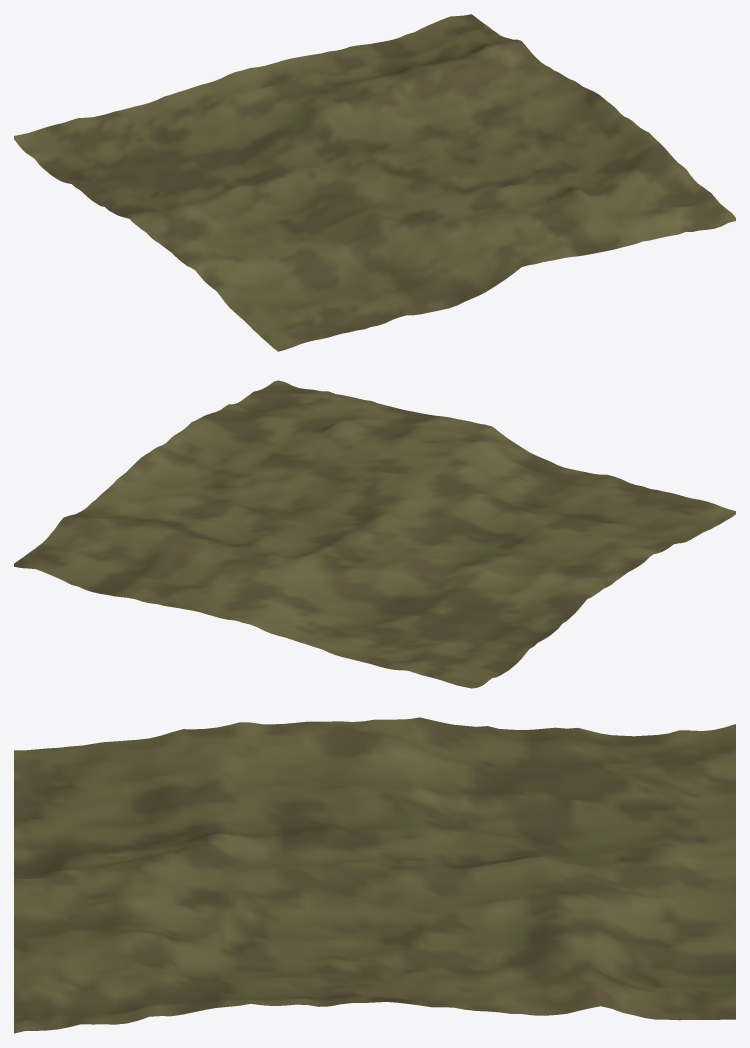
File: land_f_05_09.glb
3 views of the same model, one above another, from view 1: azimuth 30°, elevation 25°; view 2: azimuth 150°, elevation 25°; view 3: azimuth 270°, elevation 25° (orthographic). The views are drawn at different scales.
Visible parts, largest first — view 1: land_f_05_09; view 2: land_f_05_09; view 3: land_f_05_09.
Part boxes in pixels (x1,y1,x2,y2): land_f_05_09: (14, 14, 735, 351); land_f_05_09: (14, 380, 735, 688); land_f_05_09: (14, 717, 735, 1033).
Bounding box in the file's own units: 3840 × 368 × 3840.
